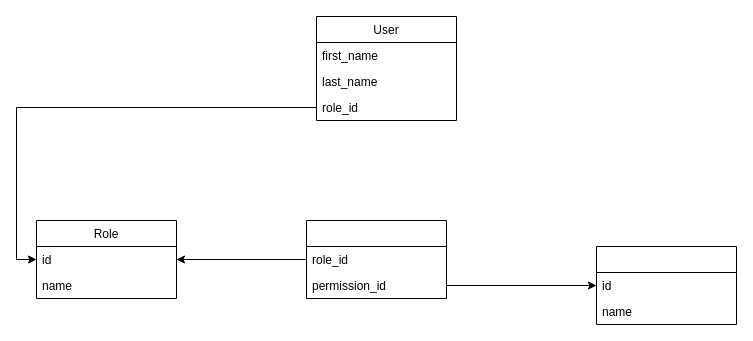
The diagram is 753 pixels wide and 341 high, and some of its shapes have lost their labels. Each missing label, with the box of its shape:
Permission: (596, 246, 736, 324)
Role Permission: (306, 220, 446, 298)
